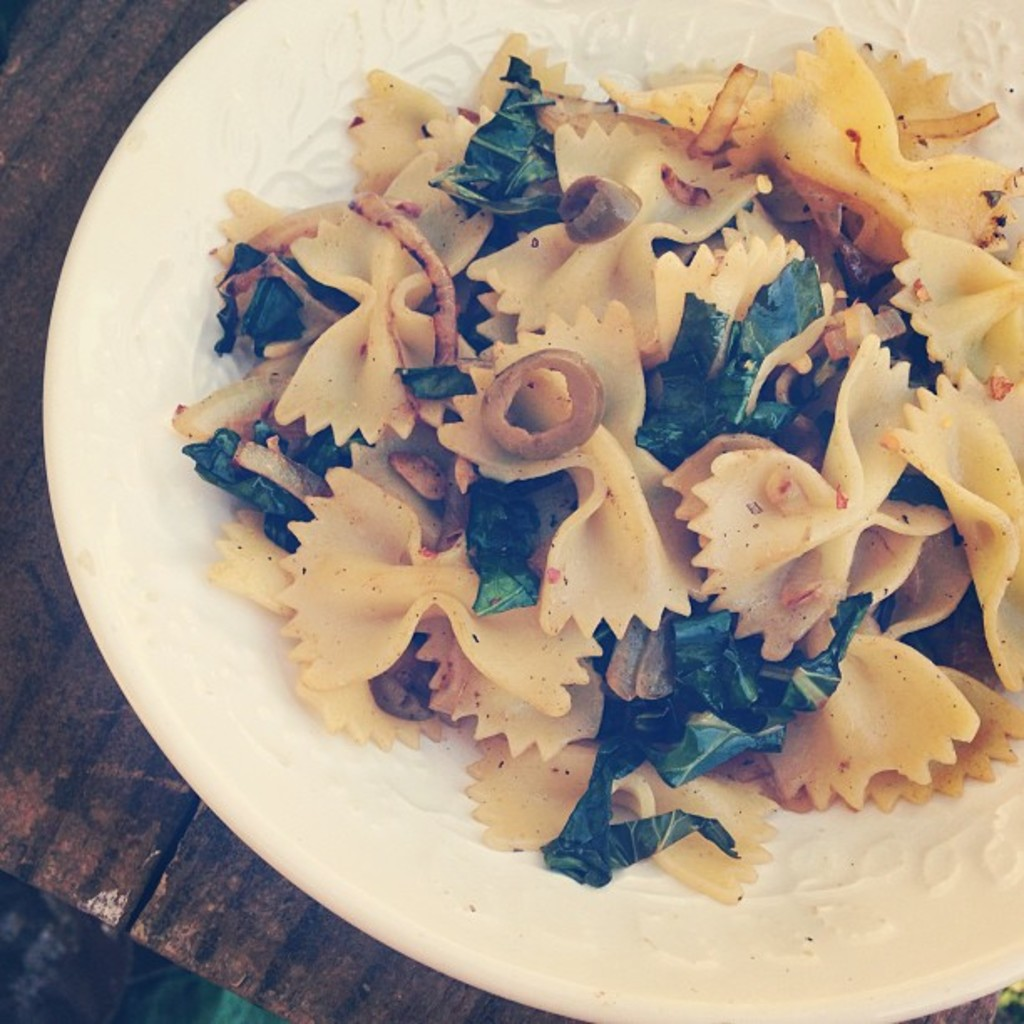pasta: (109, 32, 927, 950)
